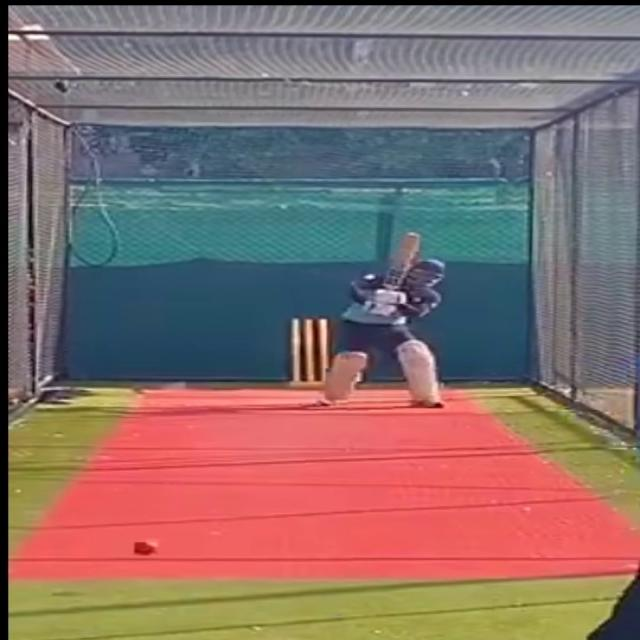ball: (130, 538, 158, 556)
stump: (280, 316, 332, 388)
